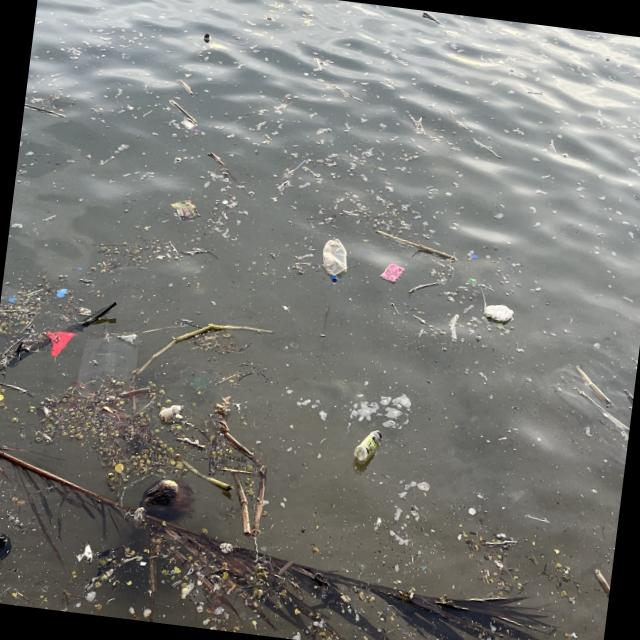foam: (484, 302, 514, 323)
plastic bottle: (322, 238, 350, 283), (354, 428, 382, 467), (160, 400, 185, 425)
